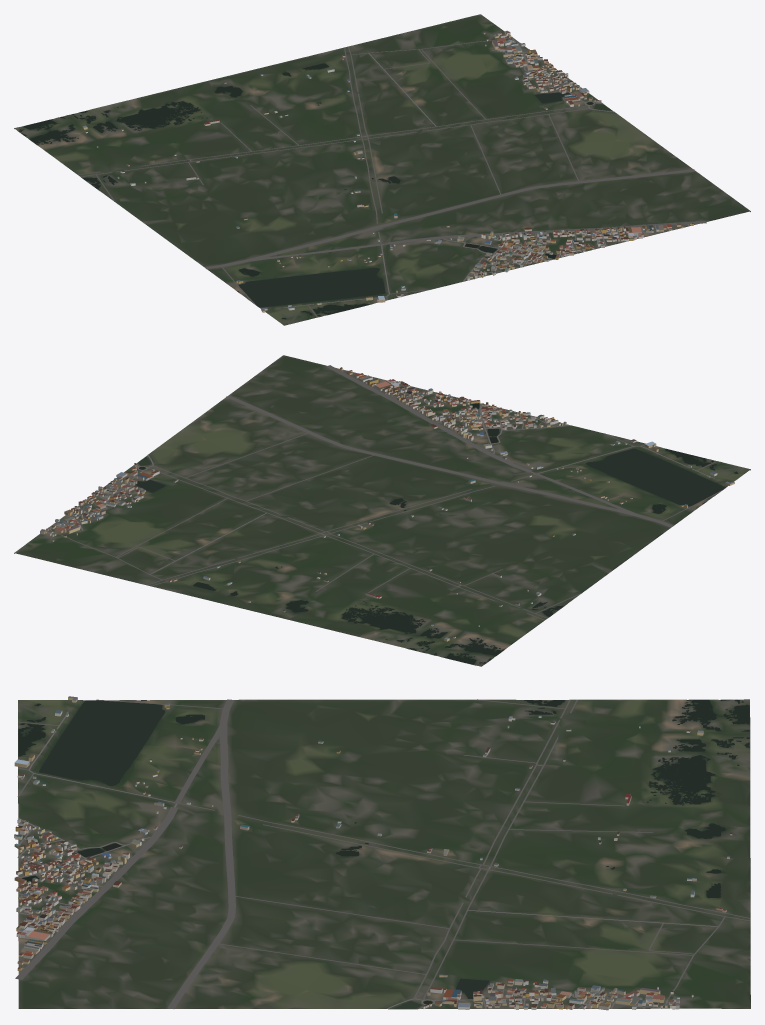
3 renders of one model, top to bottom at view 1: azimuth 30°, elevation 25°; view 2: azimuth 150°, elevation 25°; view 3: azimuth 270°, elevation 25°, orthographic. The views are drawn at different scales.
Parts seen in each view (by area): view 1: ground, water, buildings, roads; view 2: ground, water, buildings, roads; view 3: ground, water, buildings, roads.
Boxes of the visible parts, bbox=[...] form: ground: bbox=[14, 14, 750, 325]; water: bbox=[19, 63, 611, 319]; buildings: bbox=[82, 30, 693, 312]; roads: bbox=[78, 38, 706, 317]; ground: bbox=[14, 355, 750, 666]; water: bbox=[135, 403, 737, 664]; buildings: bbox=[40, 367, 734, 641]; roads: bbox=[50, 365, 722, 620]; ground: bbox=[18, 699, 750, 1009]; water: bbox=[18, 699, 749, 1008]; buildings: bbox=[14, 696, 732, 1010]; roads: bbox=[15, 699, 750, 1008].
Size of the model in its own units: 1414 by 17.5 by 1411.
